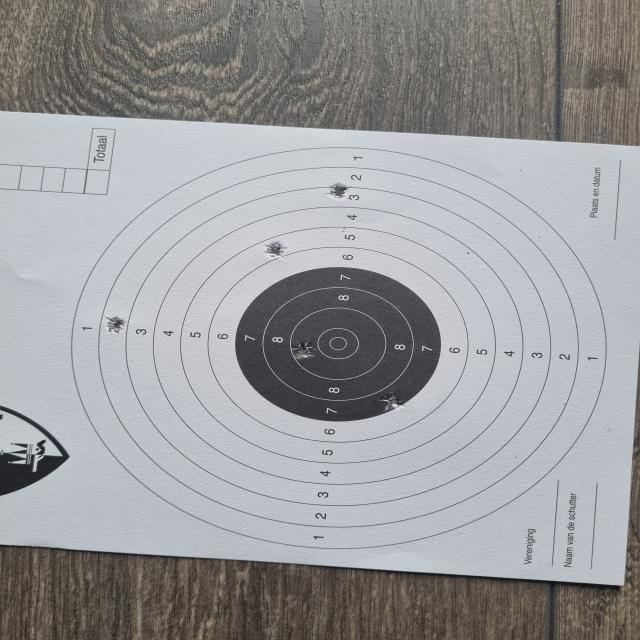2: (102, 316, 128, 332)
3: (325, 182, 352, 198)
5: (264, 241, 287, 258)
7: (378, 394, 404, 412)
9: (290, 340, 317, 359)
Target: (69, 148, 610, 552)
black_contour: (236, 268, 442, 422)
